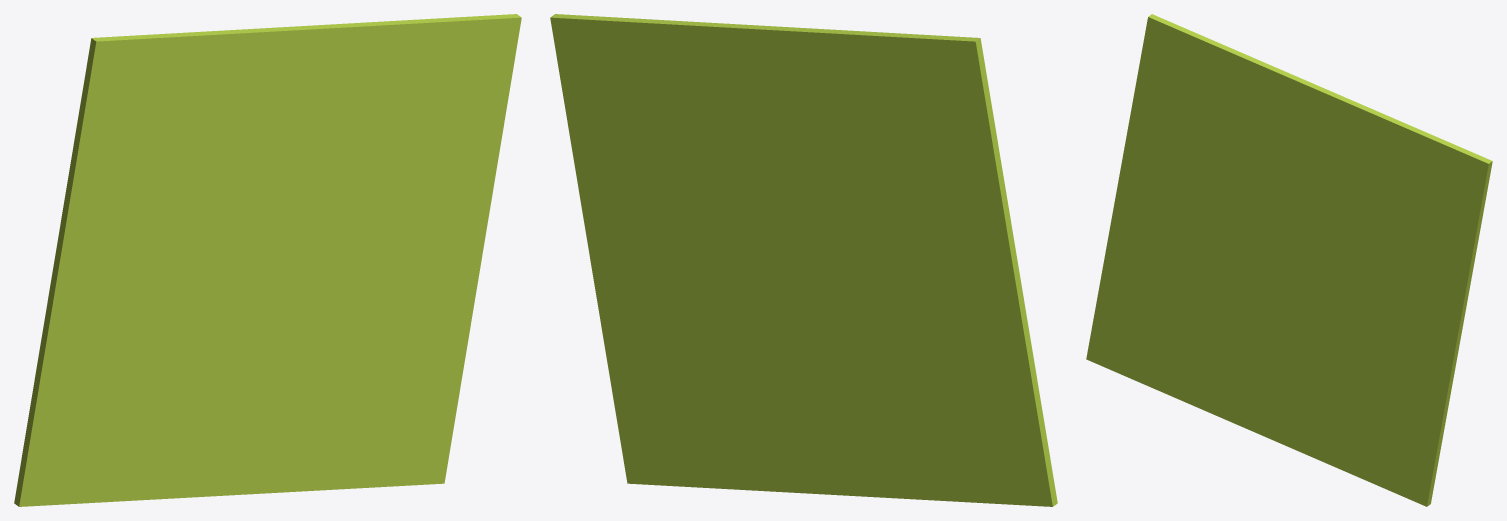
3 renders of one model, left to right at view 1: azimuth 30°, elevation 25°; view 2: azimuth 150°, elevation 25°; view 3: azimuth 330°, elevation 25°, orthographic. The views are drawn at different scales.
Visible parts, largest first — view 1: osm-way27917482-F2; view 2: osm-way27917482-F2; view 3: osm-way27917482-F2.
Boxes of the visible parts, x1,y1,x2,y2 form: osm-way27917482-F2: (14, 14, 521, 506); osm-way27917482-F2: (550, 14, 1057, 506); osm-way27917482-F2: (1086, 14, 1492, 506).
Bounding box in the file's own units: 8.79 × 8.81 × 0.15.
